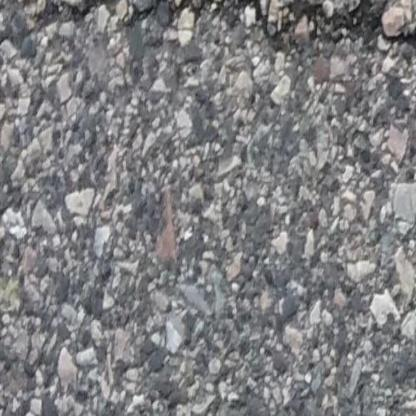Cracks: (31, 0, 416, 58)
